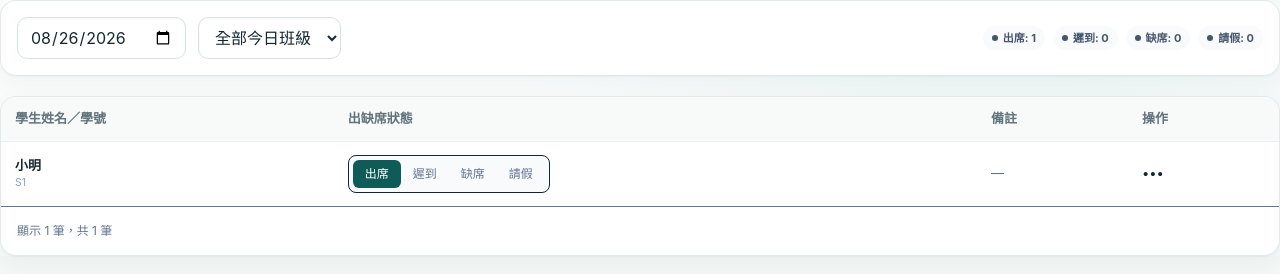
it: attendance › updates status totals
Expected: the text "出席: 1" is shown, [983, 26, 1045, 50]
Click the button with aria-label "小明-缺席". click: (473, 174)
box: [449, 160, 497, 188]
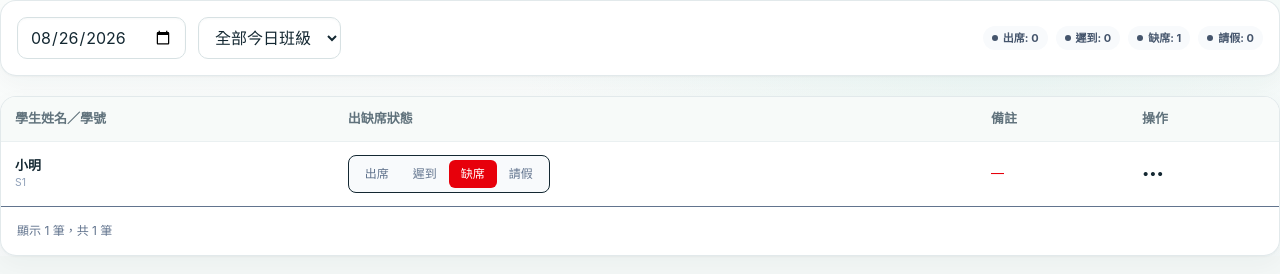
Expected: the text "缺席: 1" is shown, [1128, 26, 1190, 50]
